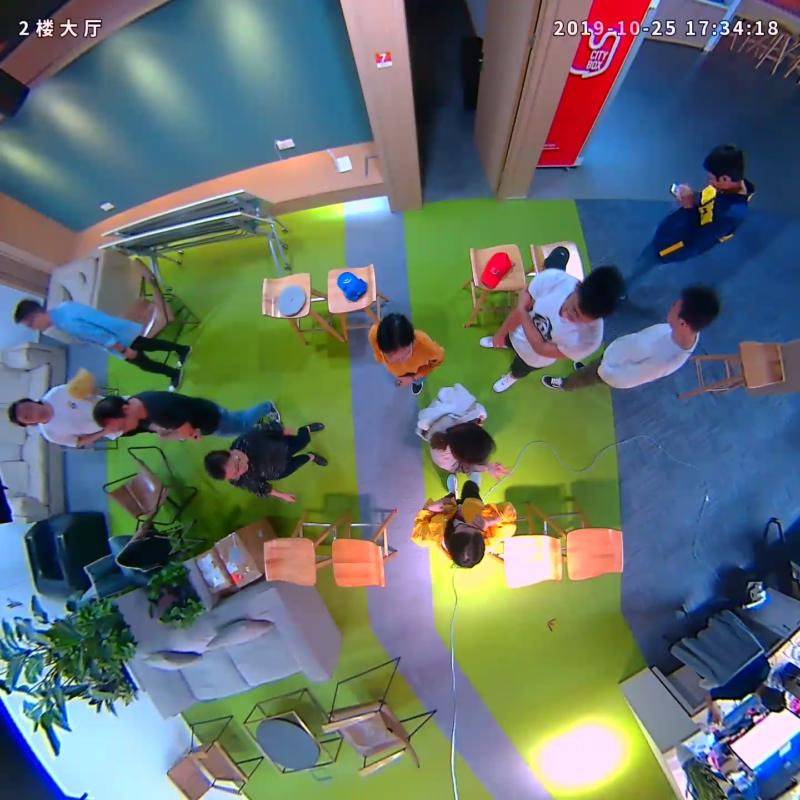head: (564, 268, 624, 324), (665, 287, 719, 332), (446, 424, 495, 466), (703, 142, 745, 190), (376, 314, 415, 363), (93, 393, 139, 433), (449, 521, 485, 569), (203, 449, 248, 481), (12, 297, 49, 333), (7, 396, 46, 426)
